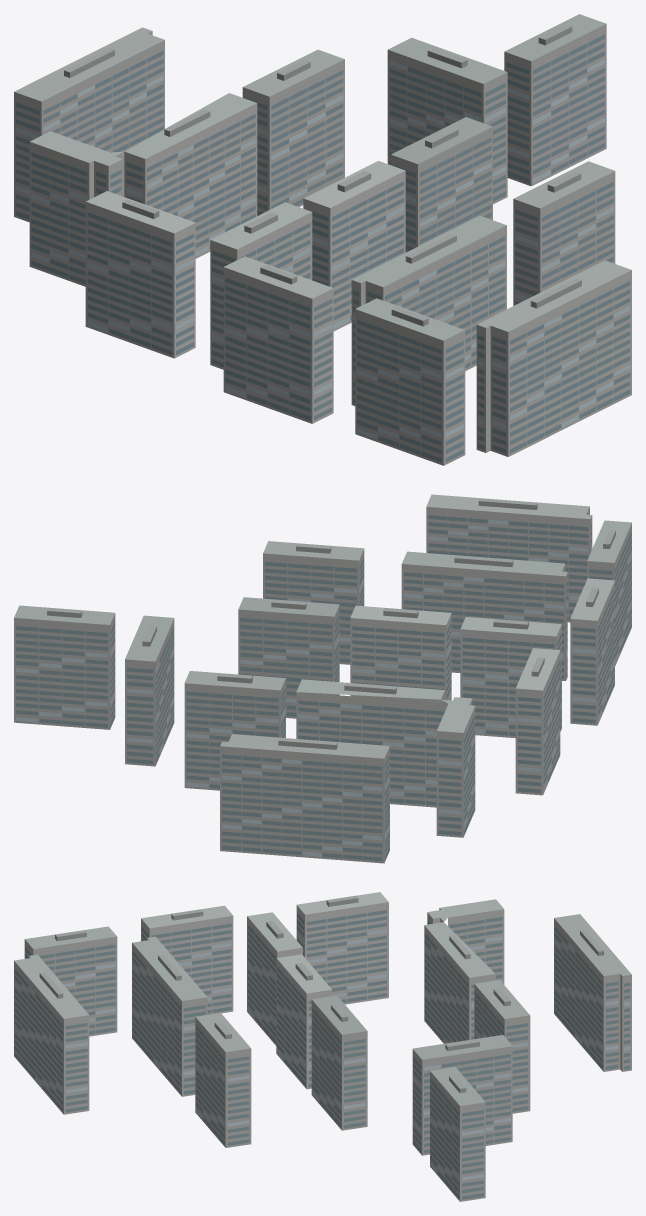
File: apt-a13522008.glb
3 views of the same model, one above another, from view 1: azimuth 30°, elevation 25°; view 2: azimuth 150°, elevation 25°; view 3: azimuth 270°, elevation 25° (orthographic). The views are drawn at different scales.
Visible parts, largest first — view 1: apt-a13522008; view 2: apt-a13522008; view 3: apt-a13522008.
Part boxes in pixels (box(x1,y1,x2,y2)): apt-a13522008: box(14, 14, 631, 465); apt-a13522008: box(14, 494, 631, 863); apt-a13522008: box(14, 892, 631, 1201).
Bounding box in the file's own units: 219 × 47.81 × 267.
